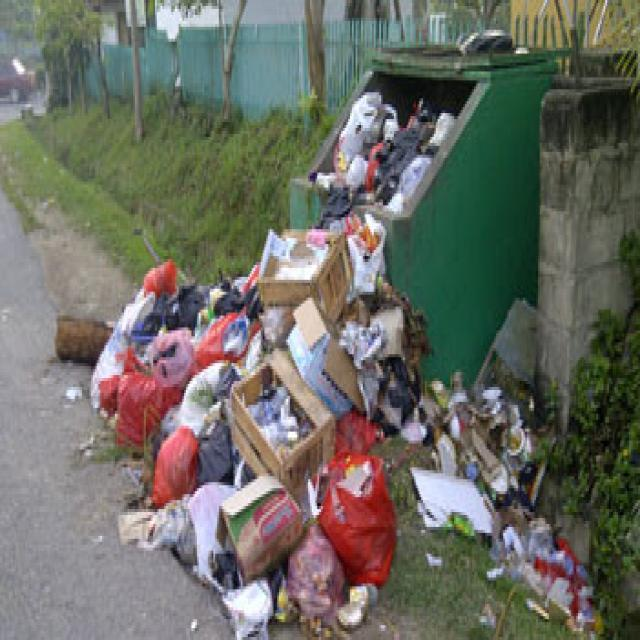sampah-detection: (90, 217, 428, 640), (415, 368, 537, 538), (310, 86, 456, 225), (489, 509, 605, 640)
